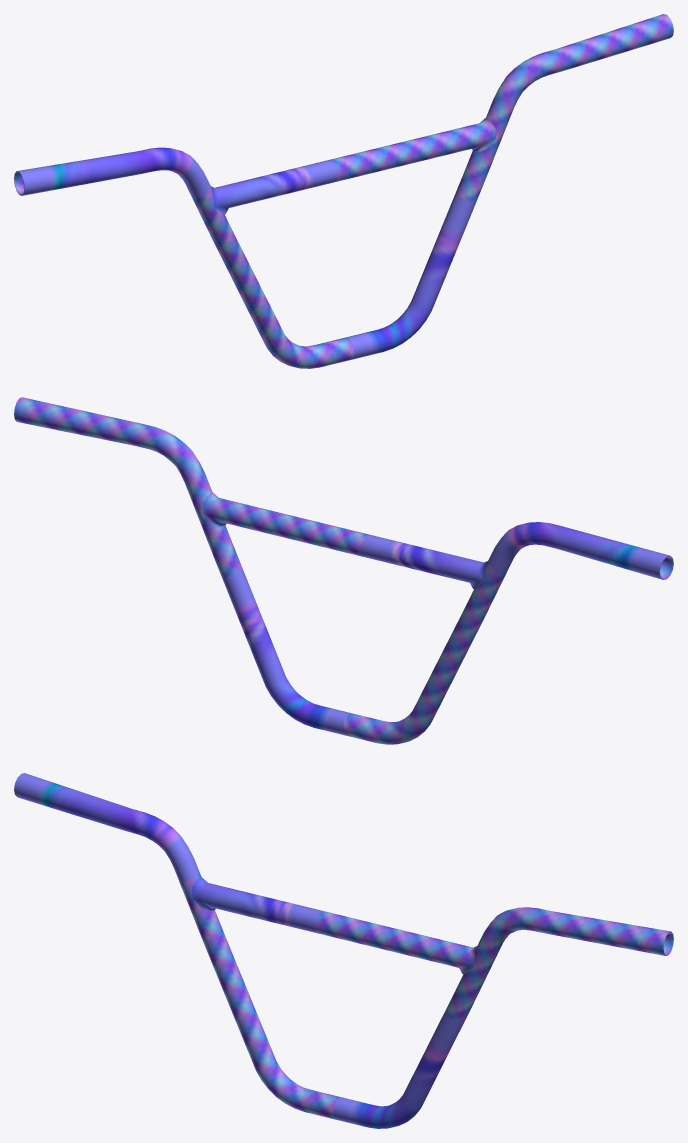
File: BMX_Bars_Saturday_Night Fever.fbx
The picture shows the model from 3 angles, top to bottom: view 1: azimuth 30°, elevation 25°; view 2: azimuth 150°, elevation 25°; view 3: azimuth 330°, elevation 25°; orthographic projection.
Parts seen in each view (by area): view 1: BMX_Bars_Saturday_NightFever; view 2: BMX_Bars_Saturday_NightFever; view 3: BMX_Bars_Saturday_NightFever.
Part boxes in pixels (bbox=[...]): BMX_Bars_Saturday_NightFever: bbox=[14, 14, 673, 368]; BMX_Bars_Saturday_NightFever: bbox=[14, 397, 673, 744]; BMX_Bars_Saturday_NightFever: bbox=[14, 773, 673, 1128].
Size of the model in its own units: 73.88 by 28.47 by 3.7.
Materials: 1 (1 with a texture image).
